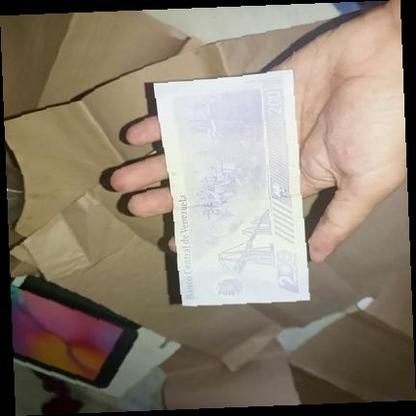two_hundred-back-vef: (152, 69, 310, 307)
